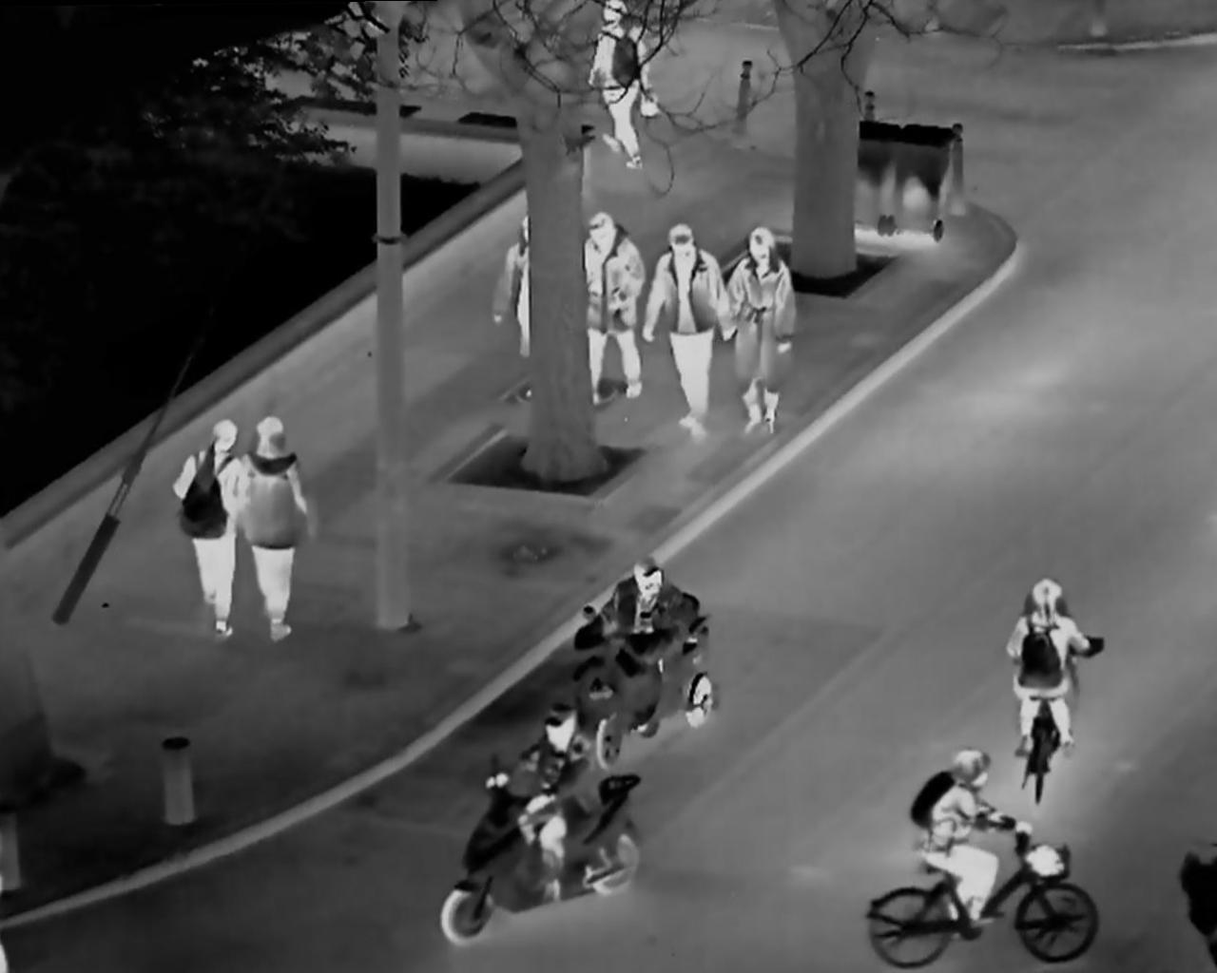person: (582, 553, 705, 743), (916, 742, 1034, 932), (492, 706, 601, 905), (634, 212, 724, 443), (716, 209, 801, 450), (173, 408, 253, 648), (235, 403, 311, 651), (999, 574, 1100, 759), (568, 202, 641, 410), (586, 4, 673, 177)
